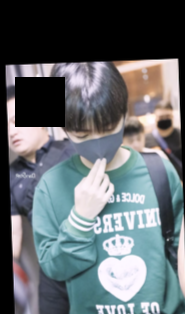with_mask: (67, 119, 125, 167), (154, 113, 173, 130)
without_mask: (7, 109, 37, 154), (121, 132, 144, 154)
